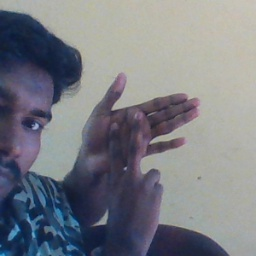N: (73, 68, 203, 199)
